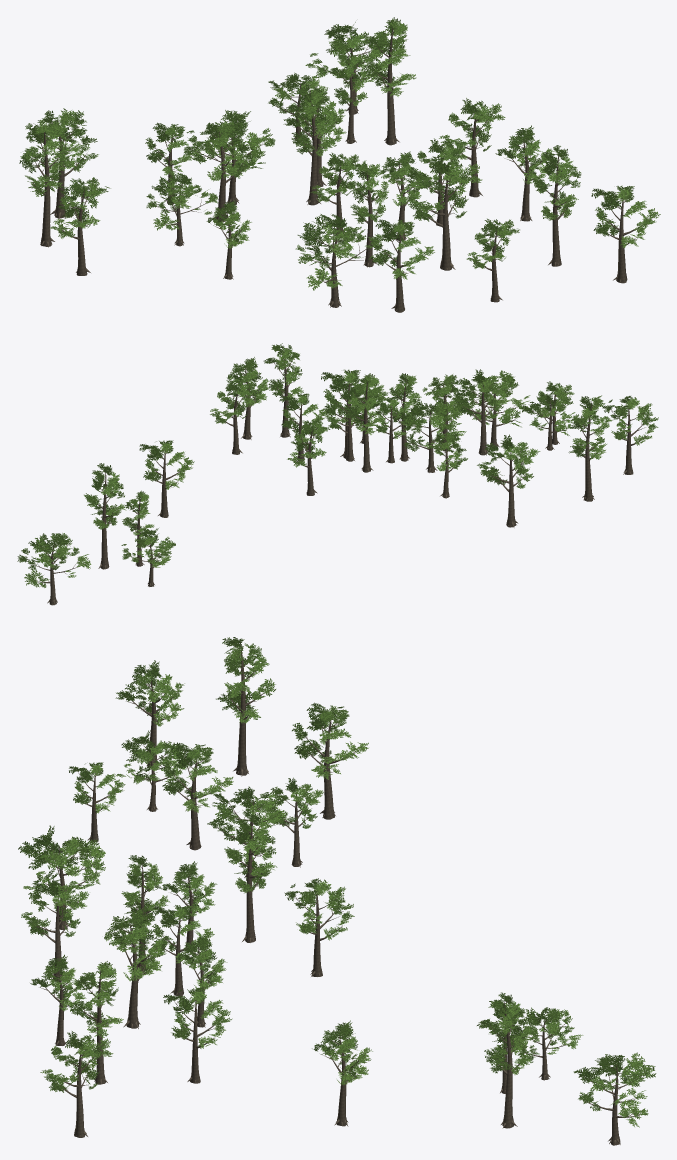
The model's file is Canopy_13_15.glb.
The picture shows the model from 3 angles, top to bottom: view 1: azimuth 30°, elevation 25°; view 2: azimuth 150°, elevation 25°; view 3: azimuth 270°, elevation 25°; orthographic projection. The views are drawn at different scales.
Visible parts, largest first — view 1: Canopy_13_15; view 2: Canopy_13_15; view 3: Canopy_13_15.
Boxes of the visible parts, left/top/right/bottom form: Canopy_13_15: left=19, top=17, right=660, bottom=312; Canopy_13_15: left=17, top=343, right=658, bottom=605; Canopy_13_15: left=18, top=637, right=656, bottom=1145.
Size of the model in its own units: 104 by 42.18 by 96.48.
Materials: 2 (2 with a texture image).
